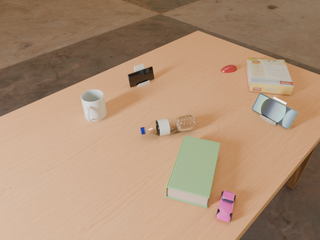book: (166, 136, 220, 208)
bottle: (141, 114, 196, 136)
box: (246, 58, 294, 95)
cup: (81, 90, 107, 121)
mouse: (221, 65, 237, 73)
phone: (252, 93, 298, 129), (128, 67, 154, 87)
toy_car: (216, 190, 236, 222)
